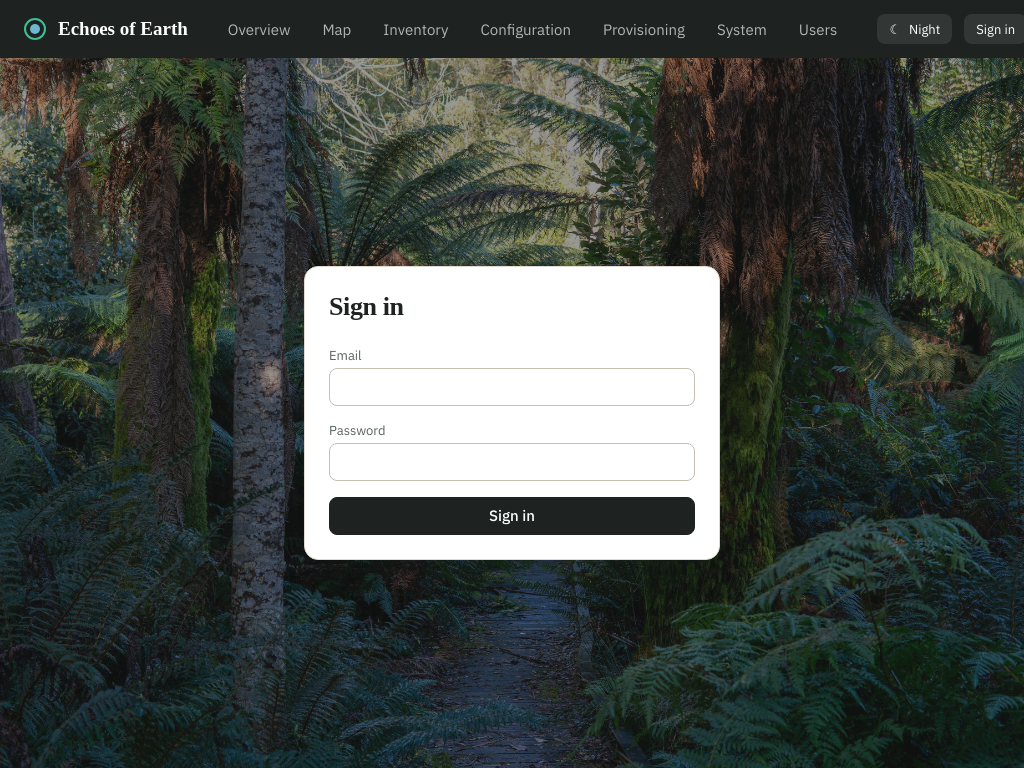
login page › shows an error on invalid credentials
This screenshot has width=1024, height=768.
Type "owner@example.com" into the field labelled "Email" at (512, 387), box [329,368,695,406]
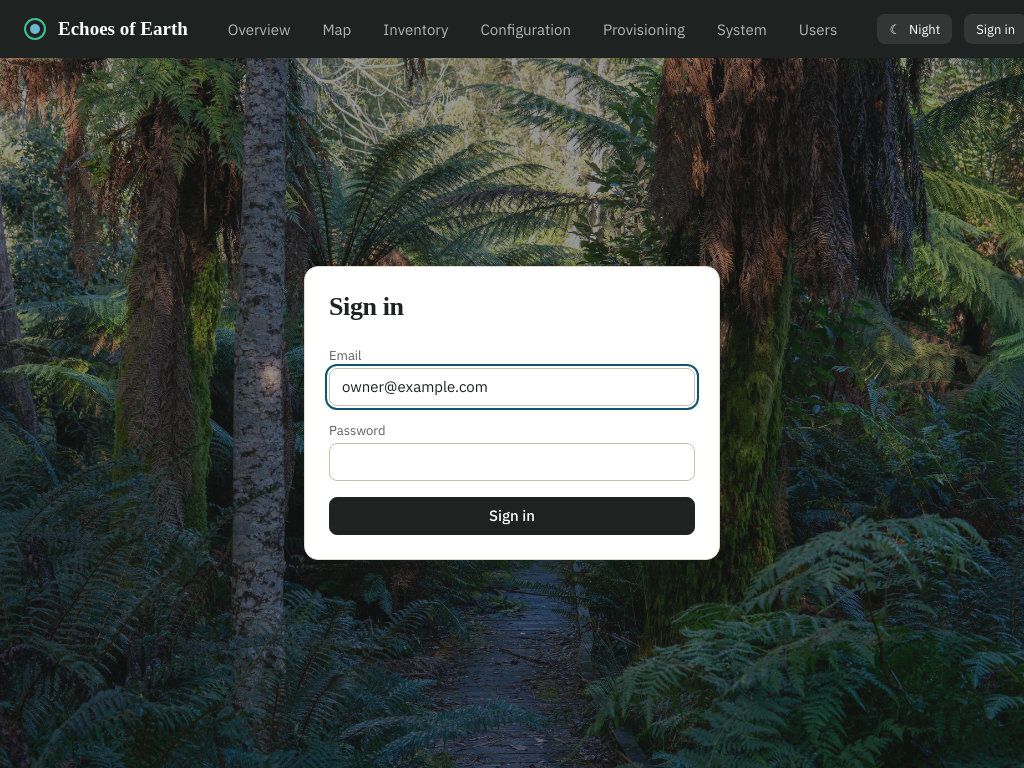
Type "wrong" into the password field labelled "Password" at (512, 462), box [329,443,695,481]
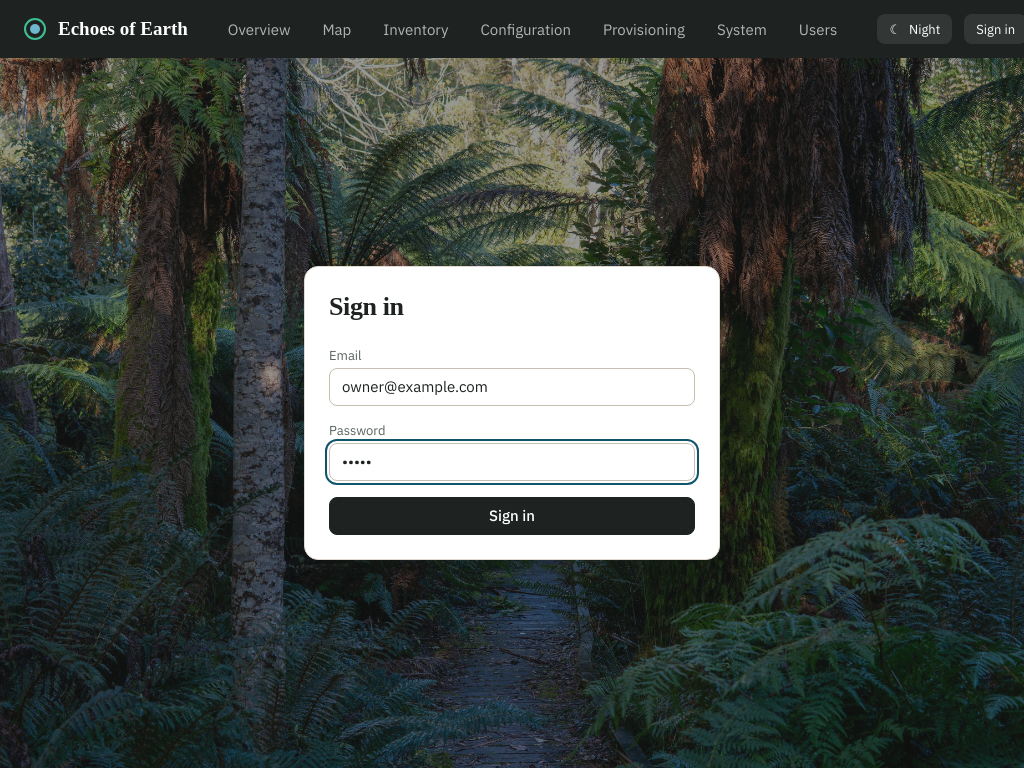
Click the button "Sign in" at (512, 516), box [329,497,695,535]
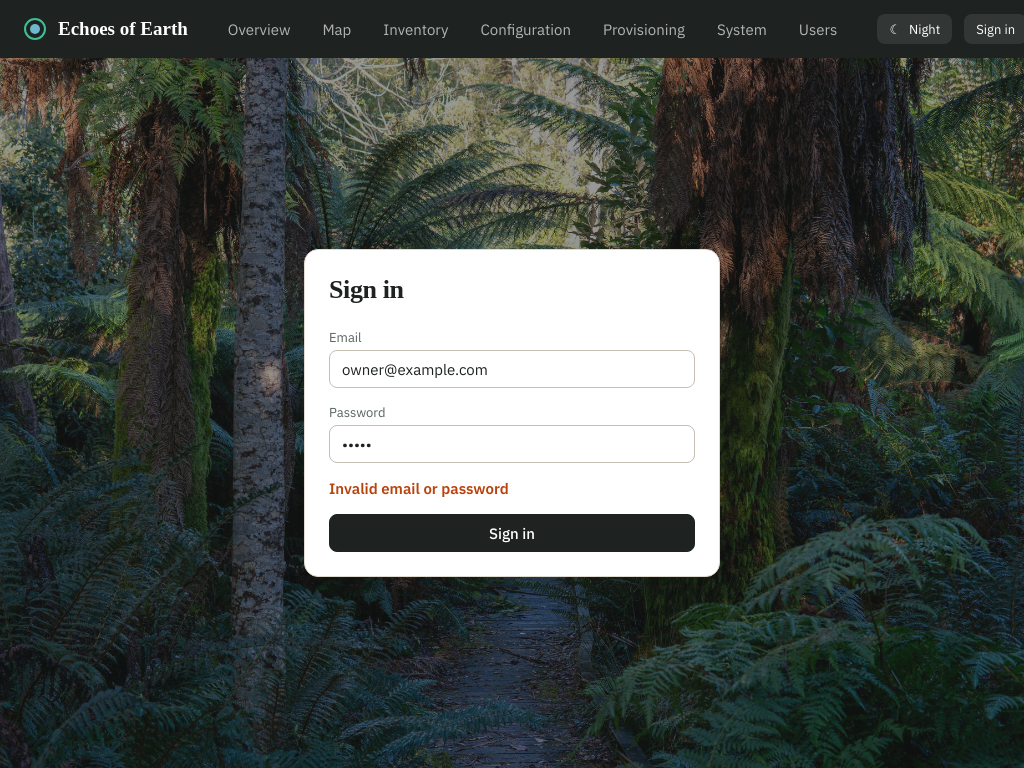
Expected: the text with test id "login-error" reads "Invalid email or password", [329,479,509,498]
